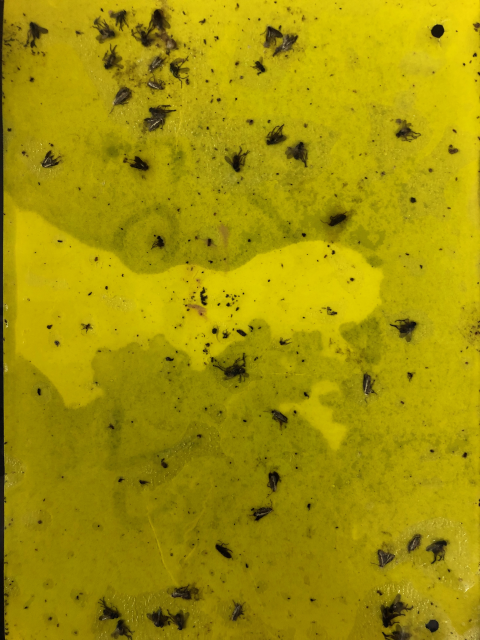DBM: (265, 406, 291, 432), (107, 85, 132, 112), (369, 546, 397, 569), (258, 23, 284, 47), (250, 498, 274, 523), (360, 373, 378, 404), (40, 149, 63, 172), (226, 598, 247, 623), (166, 583, 193, 602), (264, 469, 282, 495), (142, 116, 167, 133), (146, 52, 166, 72), (281, 32, 300, 53), (406, 533, 423, 555), (147, 74, 166, 93)
